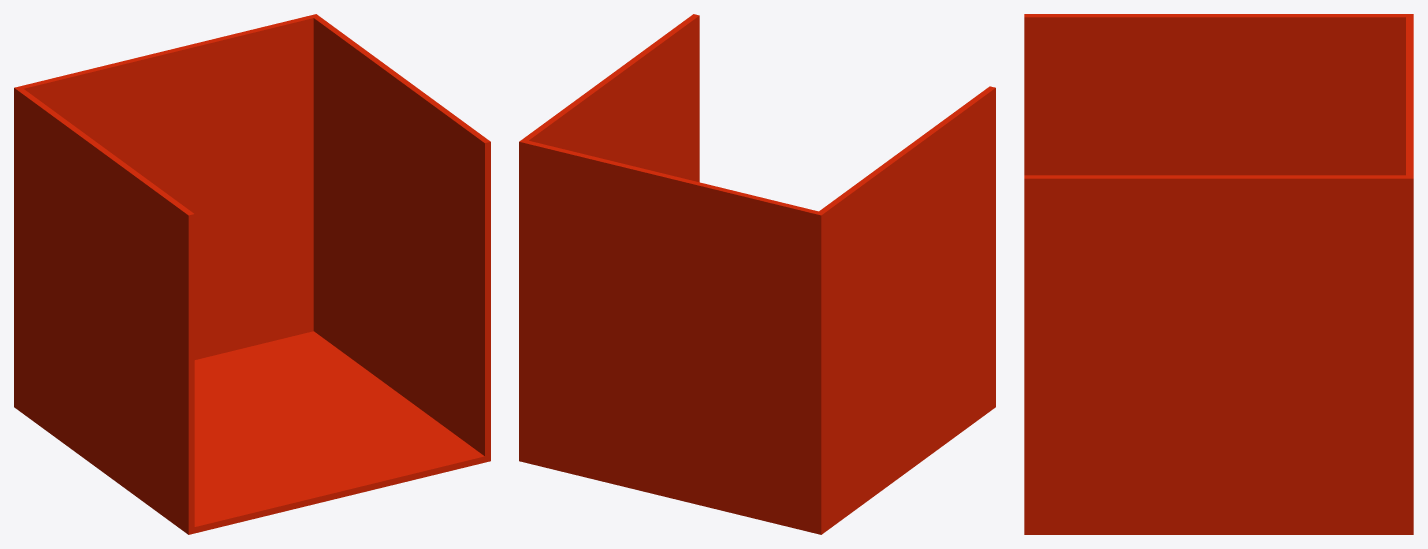
Rendered from ClearBox.fbx.
3 renders of one model, left to right at view 1: azimuth 30°, elevation 25°; view 2: azimuth 150°, elevation 25°; view 3: azimuth 270°, elevation 25°, orthographic. The views are drawn at different scales.
Visible parts, largest first — view 1: pCube5; view 2: pCube5; view 3: pCube5.
Part boxes in pixels (left/top/right/bottom): pCube5: left=14, top=14, right=490, bottom=534; pCube5: left=519, top=14, right=995, bottom=534; pCube5: left=1024, top=14, right=1413, bottom=534.
Bounding box in the file's own units: 5 × 5.05 × 5.
